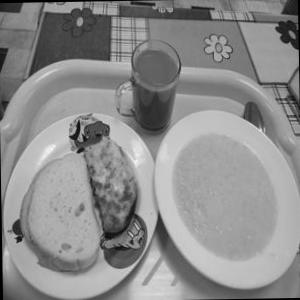bread: (15, 146, 110, 274)
cheese_sandwich: (77, 126, 144, 241)
coffee: (116, 32, 187, 138)
porridge: (156, 114, 292, 280)
